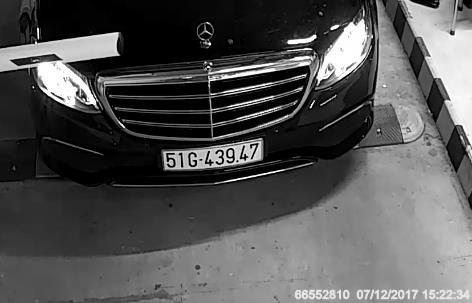License-plate: (153, 127, 275, 184)
